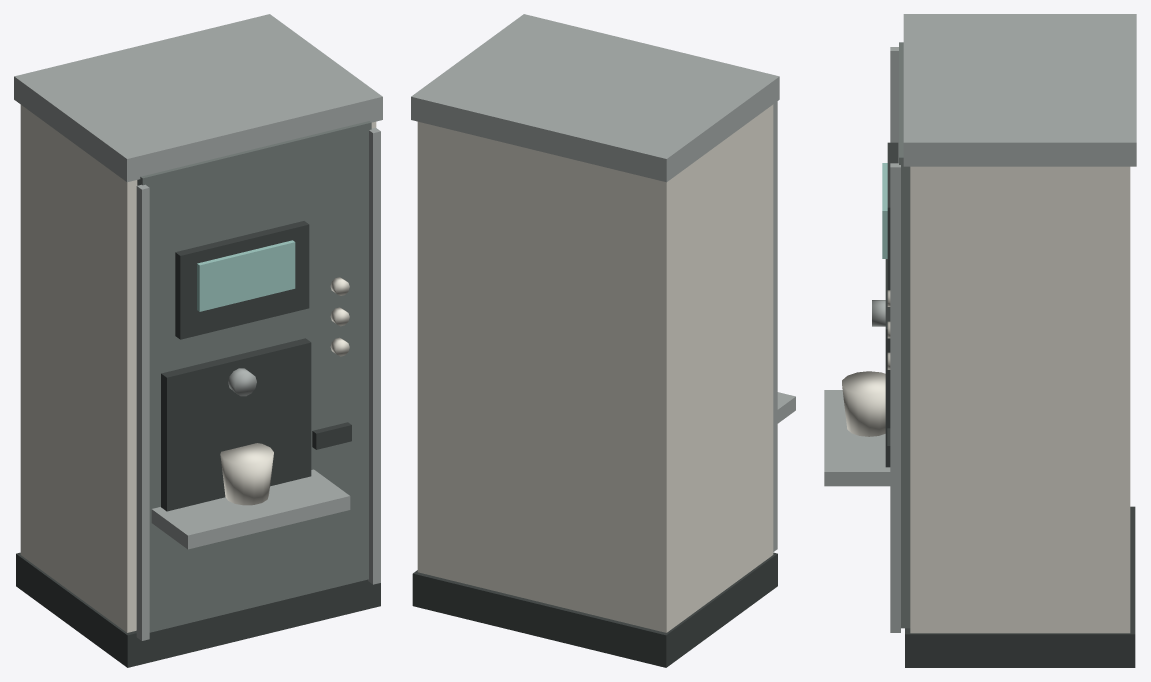
File: coffee-machine.glb
The picture shows the model from 3 angles, left to right: view 1: azimuth 30°, elevation 25°; view 2: azimuth 150°, elevation 25°; view 3: azimuth 270°, elevation 25°; orthographic projection. The views are drawn at different scales.
Visible parts, largest first — view 1: coffee-machine; view 2: coffee-machine; view 3: coffee-machine.
Boxes of the visible parts, <box> form: coffee-machine: <box>14,14,382,667</box>; coffee-machine: <box>411,14,795,667</box>; coffee-machine: <box>824,14,1136,667</box>.
Bounding box in the file's own units: 1.15 × 2.19 × 1.18.
